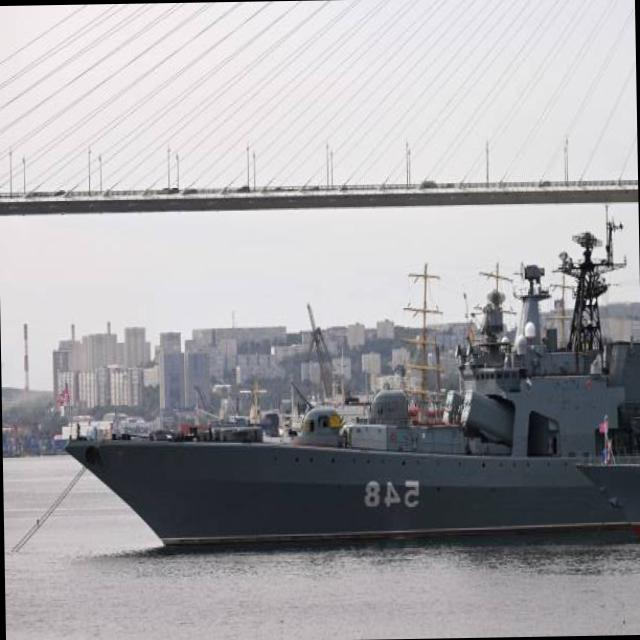Military: (61, 232, 640, 542)
